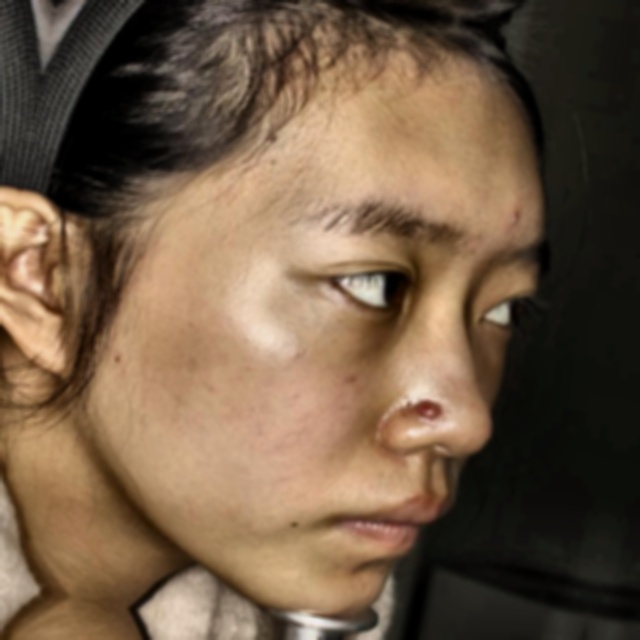comedone: (411, 388, 450, 425), (492, 203, 531, 231)
